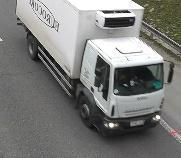Truck: (17, 0, 175, 139)
